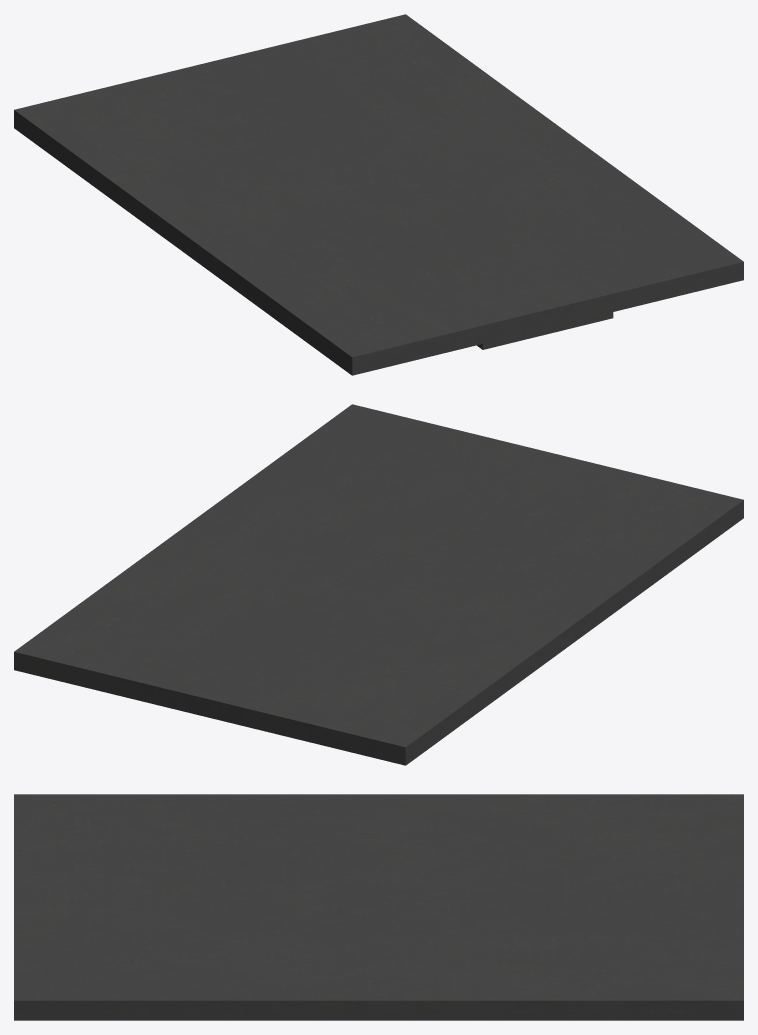
The model's file is ceilingwtexture4.glb.
3 views of the same model, one above another, from view 1: azimuth 30°, elevation 25°; view 2: azimuth 150°, elevation 25°; view 3: azimuth 270°, elevation 25° (orthographic). The views are drawn at different scales.
Visible parts, largest first — view 1: tank ceiling.001; view 2: tank ceiling.001; view 3: tank ceiling.001.
Part boxes in pixels (left/top/right/bottom): tank ceiling.001: left=14, top=14, right=743, bottom=375; tank ceiling.001: left=14, top=404, right=743, bottom=765; tank ceiling.001: left=14, top=794, right=743, bottom=1020.
Size of the model in its own units: 50.41 by 3.02 by 75.37.
2 materials, 2 textured.
